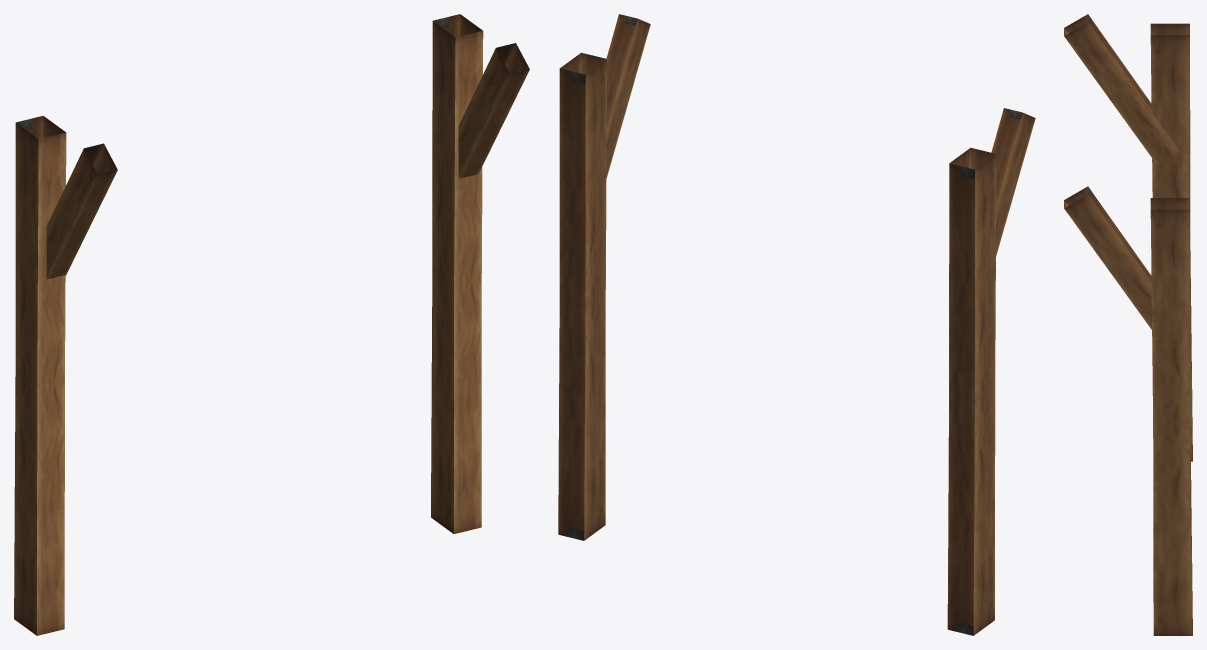
File: bridge_02_downside.fbx
3 renders of one model, left to right at view 1: azimuth 30°, elevation 25°; view 2: azimuth 150°, elevation 25°; view 3: azimuth 270°, elevation 25°, orthographic. The views are drawn at different scales.
Visible parts, largest first — view 1: bridge_02_downside; view 2: bridge_02_downside; view 3: bridge_02_downside.
Boxes of the visible parts, x1,y1,x2,y2 form: bridge_02_downside: (14,14,529,635); bridge_02_downside: (558,14,1035,635); bridge_02_downside: (1064,14,1192,635).
Size of the model in its own units: 1.9 by 2.1 by 0.5581.
